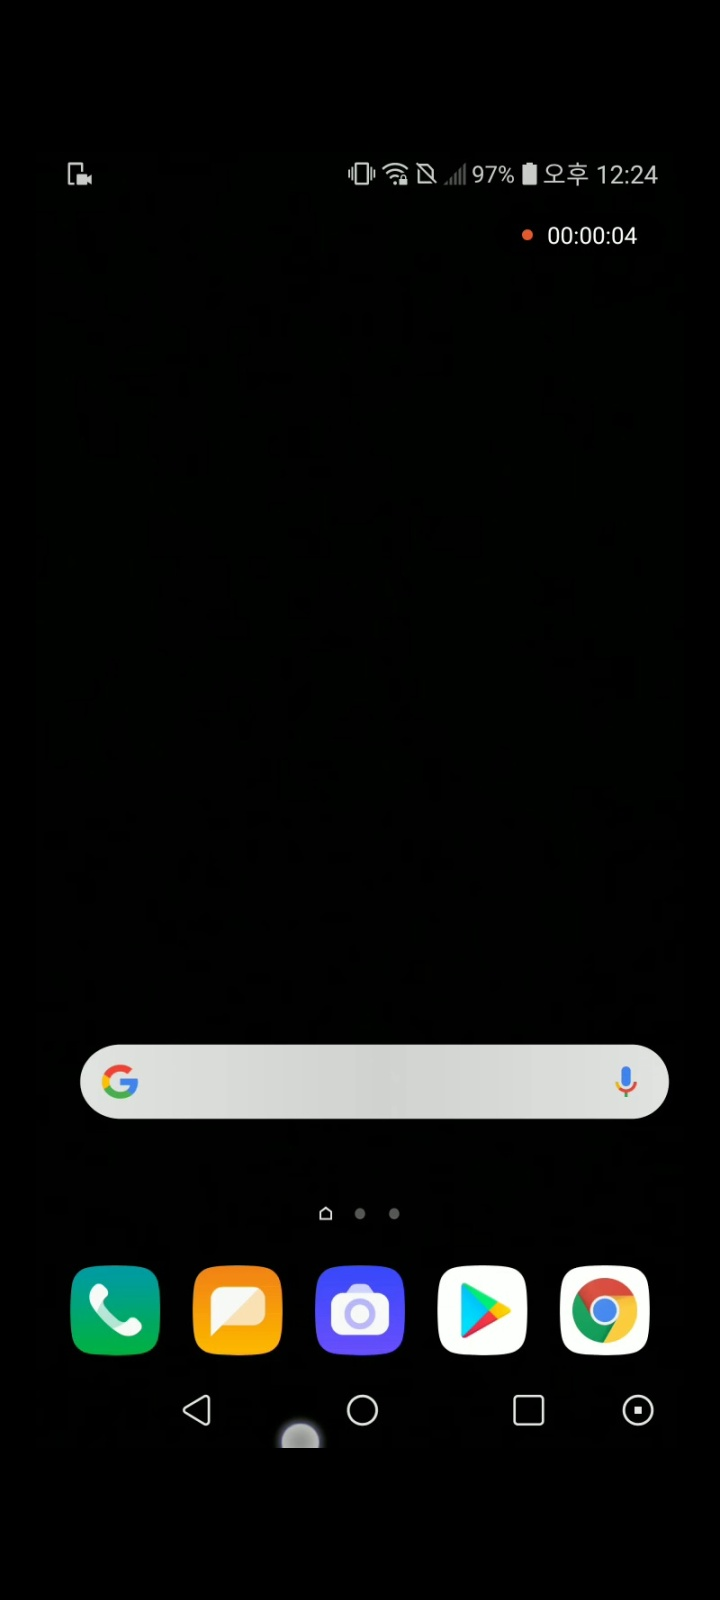Cursor: (278, 1415, 320, 1448)
